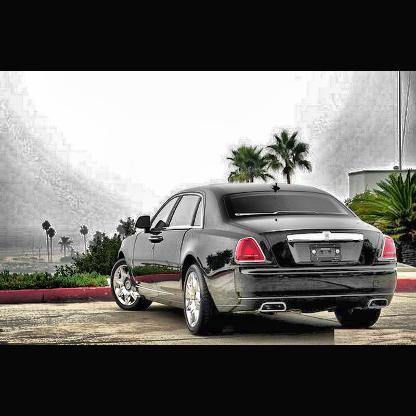Rolls-Royce Phantom Sedan 2012: (109, 179, 402, 338)
